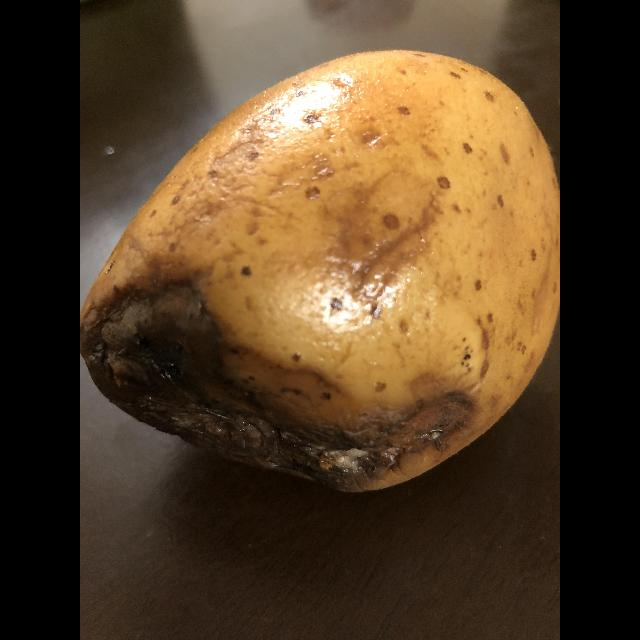Damaged potato: (100, 49, 560, 502)
